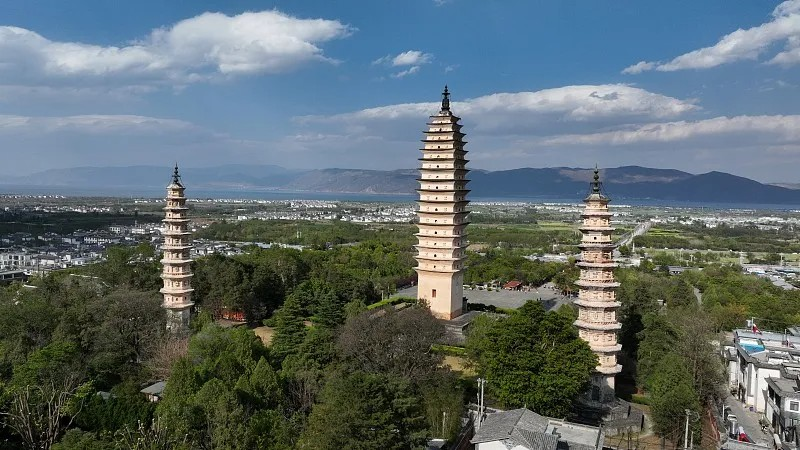ThreePagoda: (411, 85, 469, 319)
